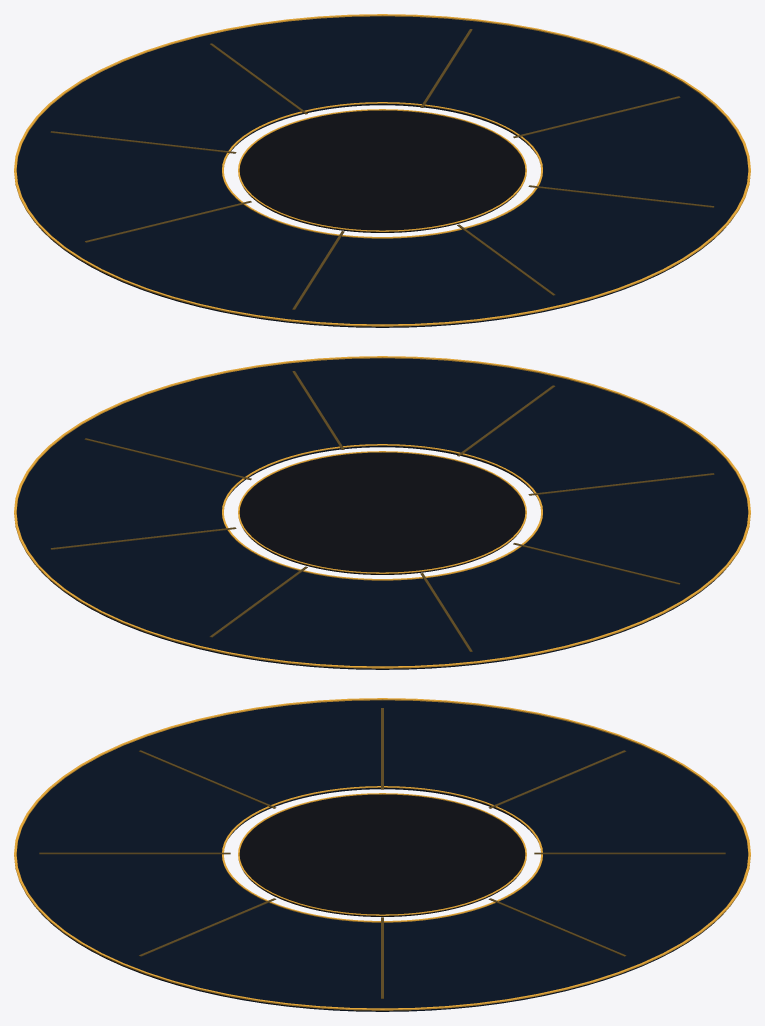
Rendered from vmt_phase_a_chamber_floor_ring.obj.
The picture shows the model from 3 angles, top to bottom: view 1: azimuth 30°, elevation 25°; view 2: azimuth 150°, elevation 25°; view 3: azimuth 270°, elevation 25°; orthographic projection.
Parts seen in each view (by area): view 1: VMT_PhaseA_ChamberFloorRing; view 2: VMT_PhaseA_ChamberFloorRing; view 3: VMT_PhaseA_ChamberFloorRing.
Part boxes in pixels (bbox=[...]): VMT_PhaseA_ChamberFloorRing: bbox=[14, 14, 750, 327]; VMT_PhaseA_ChamberFloorRing: bbox=[14, 356, 750, 669]; VMT_PhaseA_ChamberFloorRing: bbox=[14, 698, 750, 1011].
Bounding box in the file's own units: 92.32 × 0.485 × 92.32.
